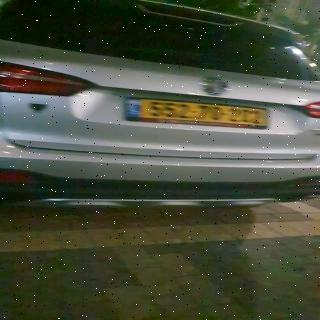LicensePlate: (140, 100, 266, 127)
